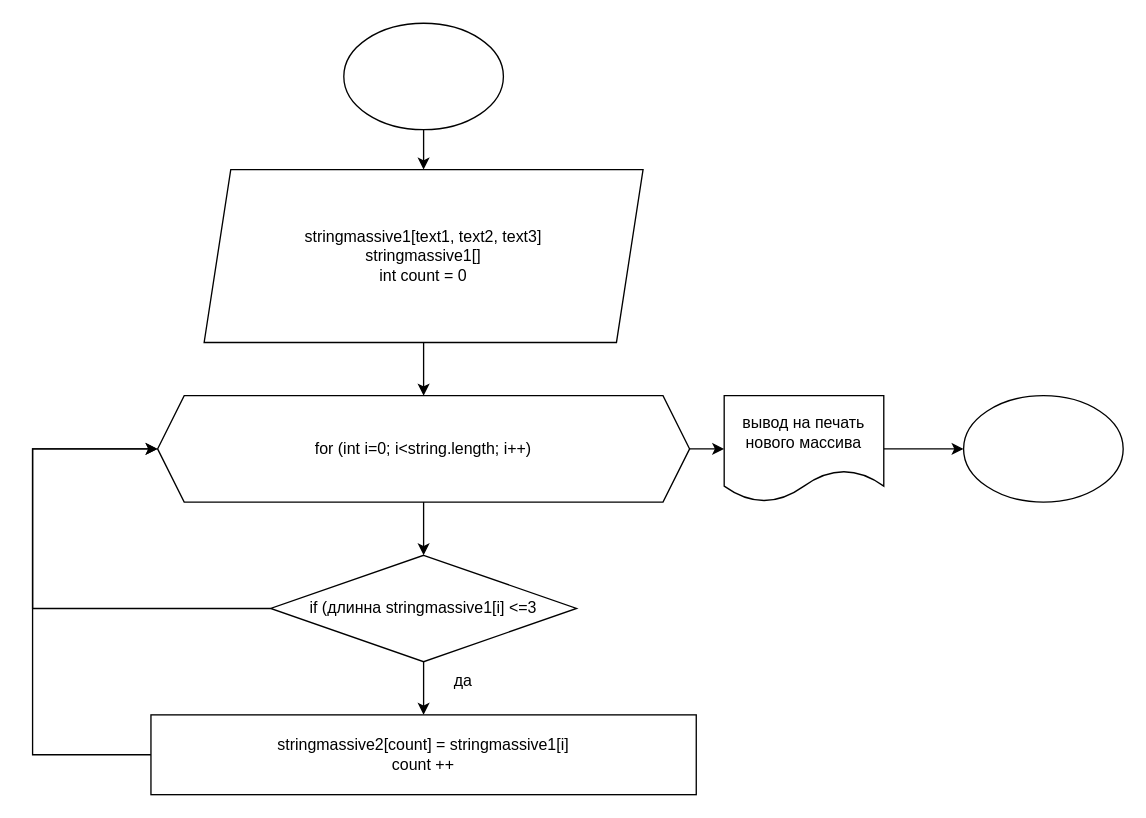
This 1146x818 diagram has some shape labels left out. The centre of each missing label's shape, as x and y in pixels:
"Конец" goes at [1042,448].
"Нчало" goes at [422,76].
